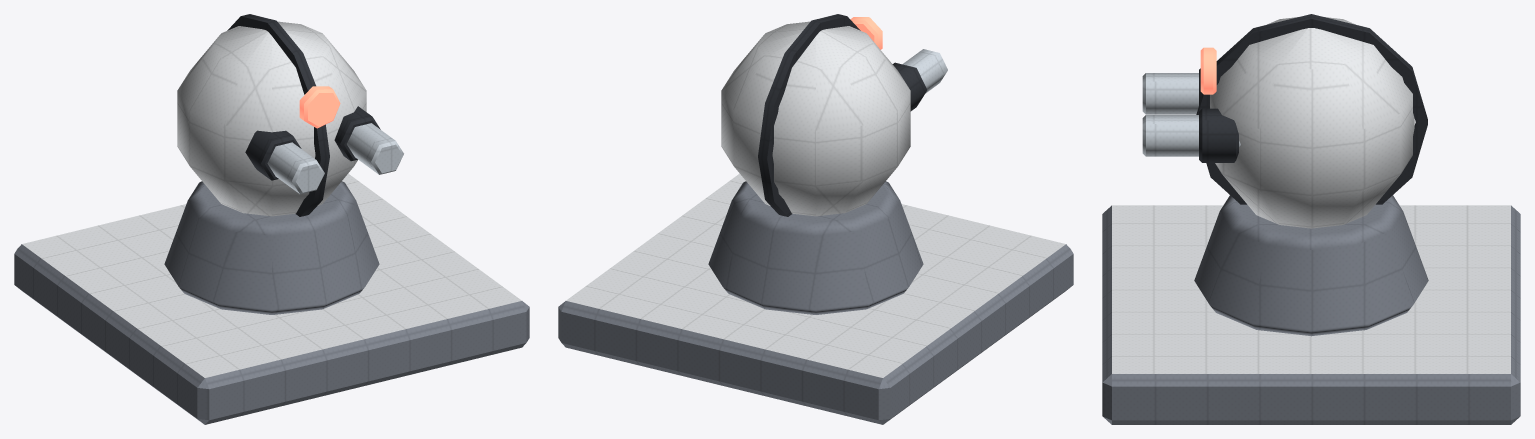
The model's file is R4X_PointDefense_LOD1.glb.
3 renders of one model, left to right at view 1: azimuth 30°, elevation 25°; view 2: azimuth 150°, elevation 25°; view 3: azimuth 270°, elevation 25°, orthographic. The views are drawn at different scales.
Visible parts, largest first — view 1: R4X_PointDefense_LOD1; view 2: R4X_PointDefense_LOD1; view 3: R4X_PointDefense_LOD1.
Boxes of the visible parts, <box> form: R4X_PointDefense_LOD1: <box>14,14,529,424</box>; R4X_PointDefense_LOD1: <box>558,14,1073,424</box>; R4X_PointDefense_LOD1: <box>1102,14,1520,424</box>.
Size of the model in its own units: 0.52 by 0.445 by 0.52.
5 materials, 4 textured.
